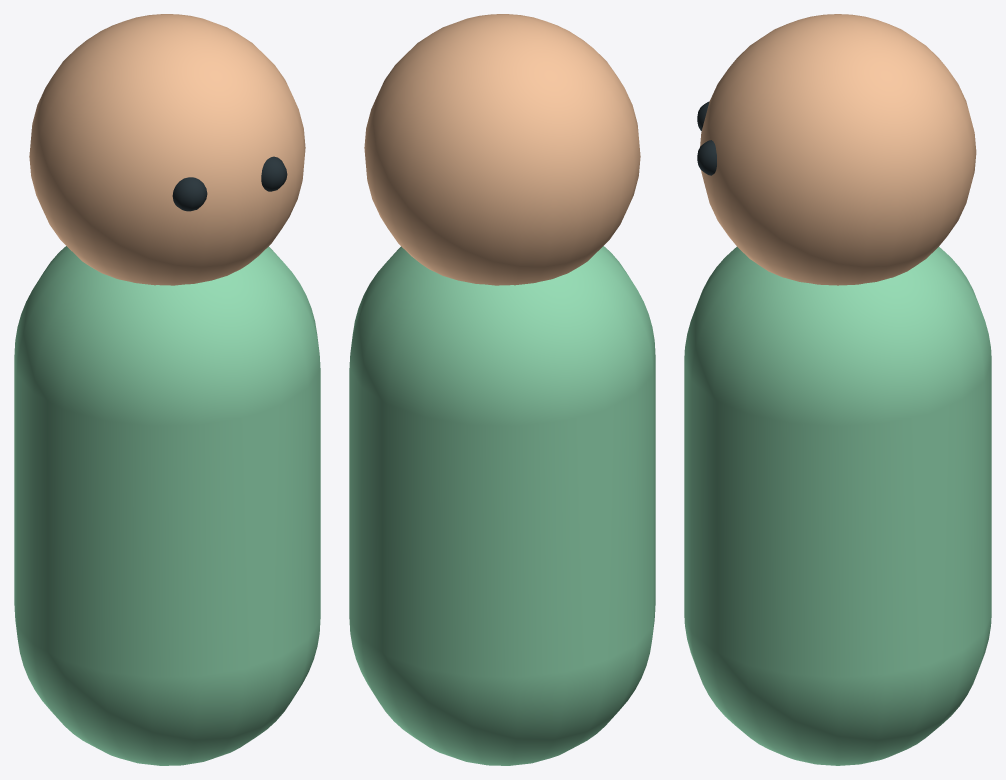
Rendered from ama.glb.
3 renders of one model, left to right at view 1: azimuth 30°, elevation 25°; view 2: azimuth 150°, elevation 25°; view 3: azimuth 270°, elevation 25°, orthographic.
Bounding box in the file's own units: 1 × 2.6 × 1.
